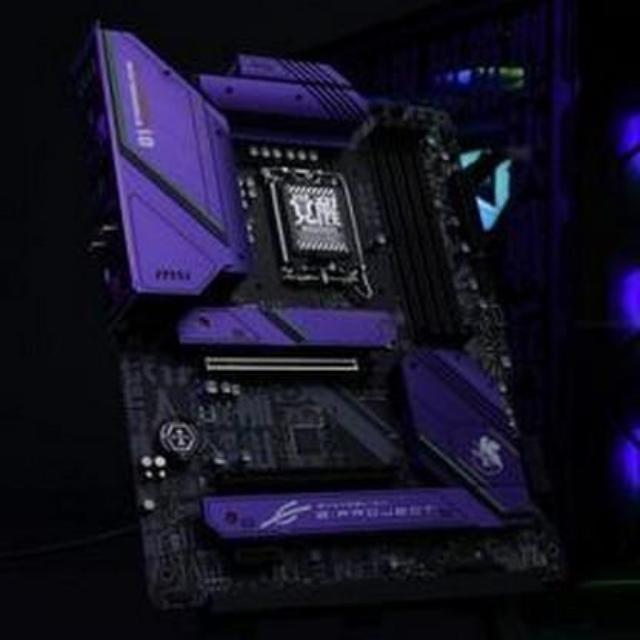Mainboard: (81, 22, 559, 620)
